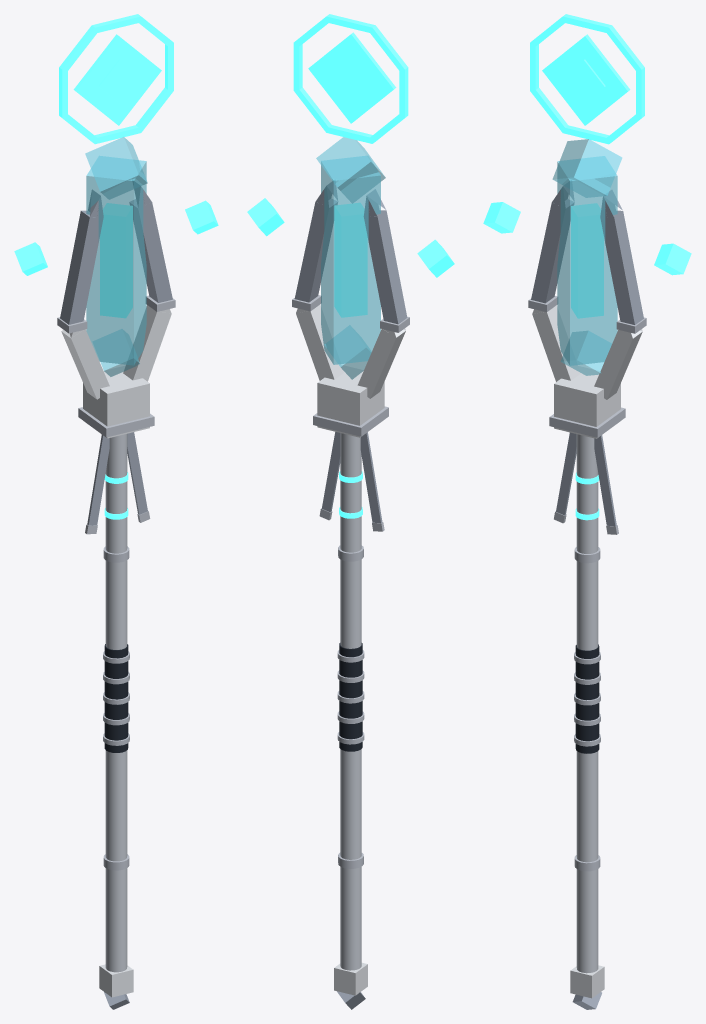
3 views of the same model, side by side, from view 1: azimuth 30°, elevation 25°; view 2: azimuth 150°, elevation 25°; view 3: azimuth 330°, elevation 25° (orthographic).
Parts seen in each view (by area): view 1: prism-staff; view 2: prism-staff; view 3: prism-staff.
Boxes of the visible parts, left/top/right/bottom form: prism-staff: left=14, top=14, right=218, bottom=1009; prism-staff: left=247, top=14, right=454, bottom=1009; prism-staff: left=483, top=14, right=691, bottom=1009.
Size of the model in its own units: 0.4556 by 2.17 by 0.1436.
